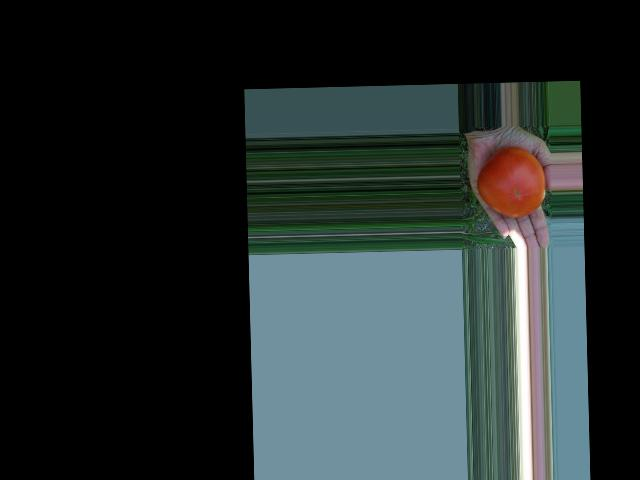tomato: (475, 146, 546, 218)
